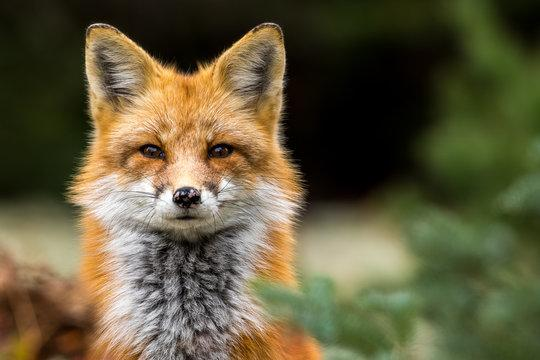fox: (64, 16, 319, 360)
